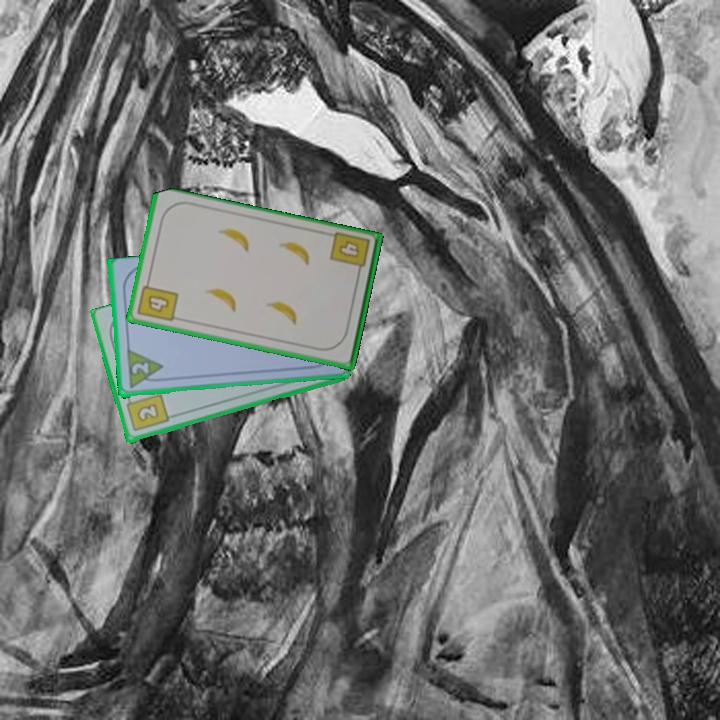2b: (123, 391, 171, 434)
2p: (128, 359, 152, 377)
4b: (134, 276, 181, 325), (327, 229, 373, 279)
